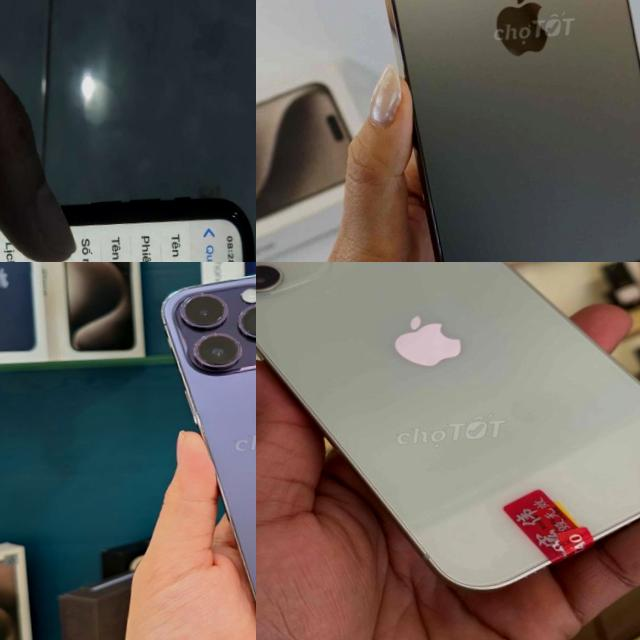gen_12_13: (340, 0, 640, 262)
gen_14: (152, 262, 256, 640)
gen_15: (256, 262, 640, 610)
gen_x_xs: (0, 184, 256, 262)
